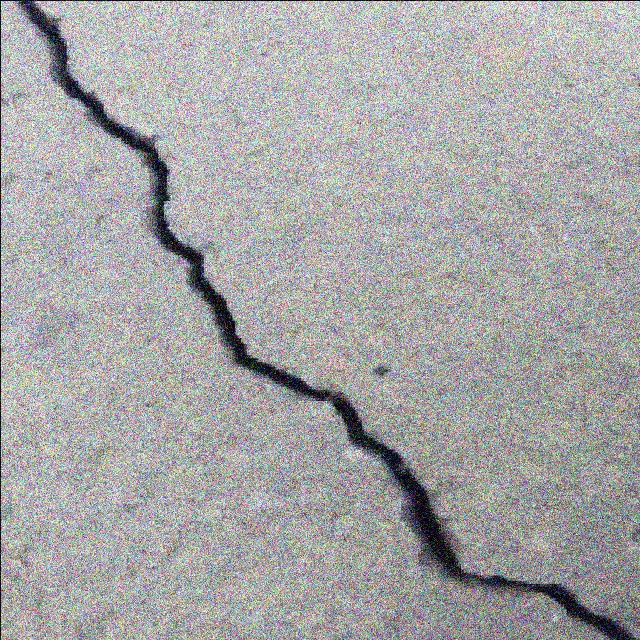SurfaceCrack: (8, 2, 626, 636)
